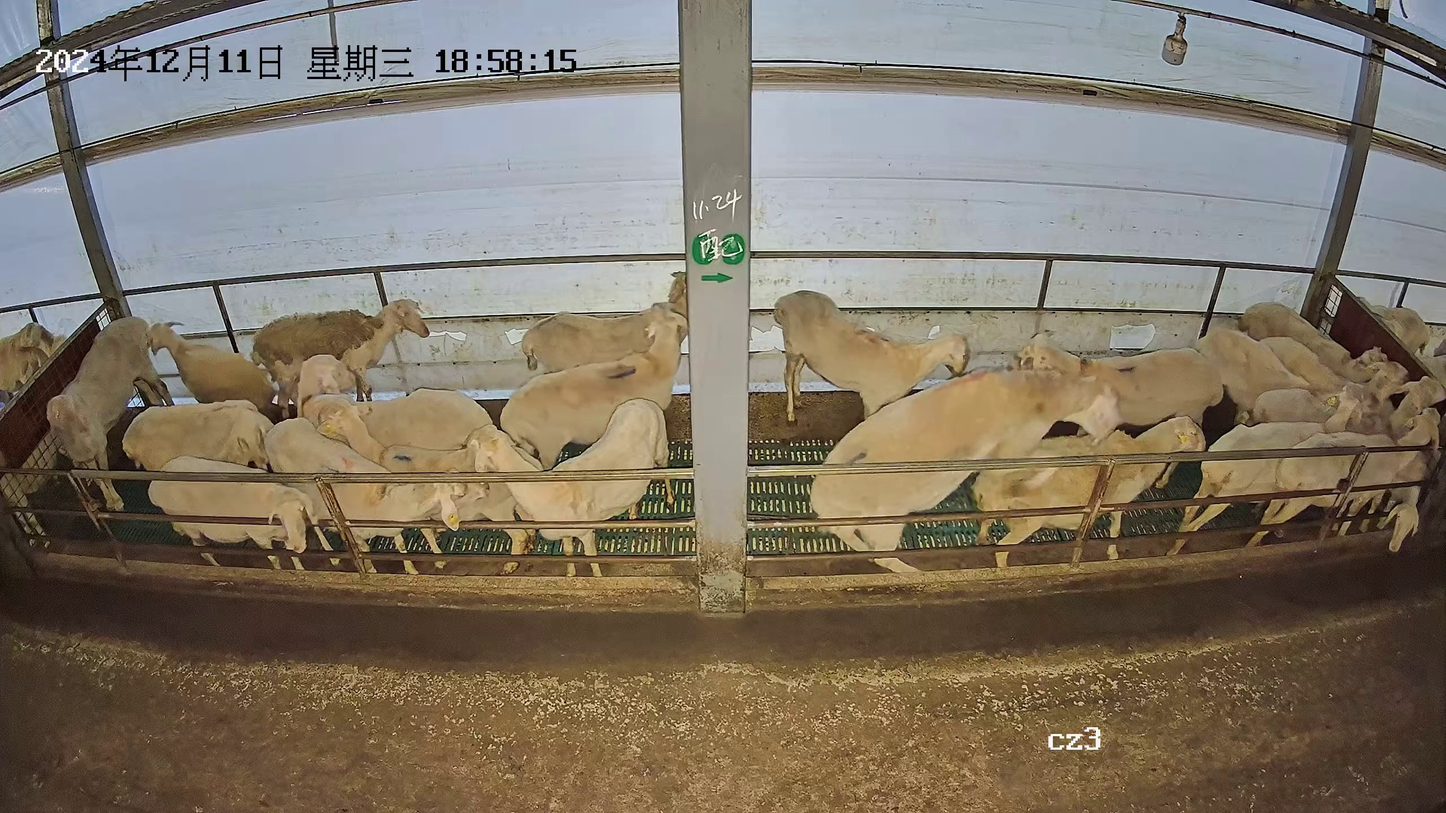Smounting: (806, 362, 1213, 571)
mounted: (969, 414, 1212, 567)
